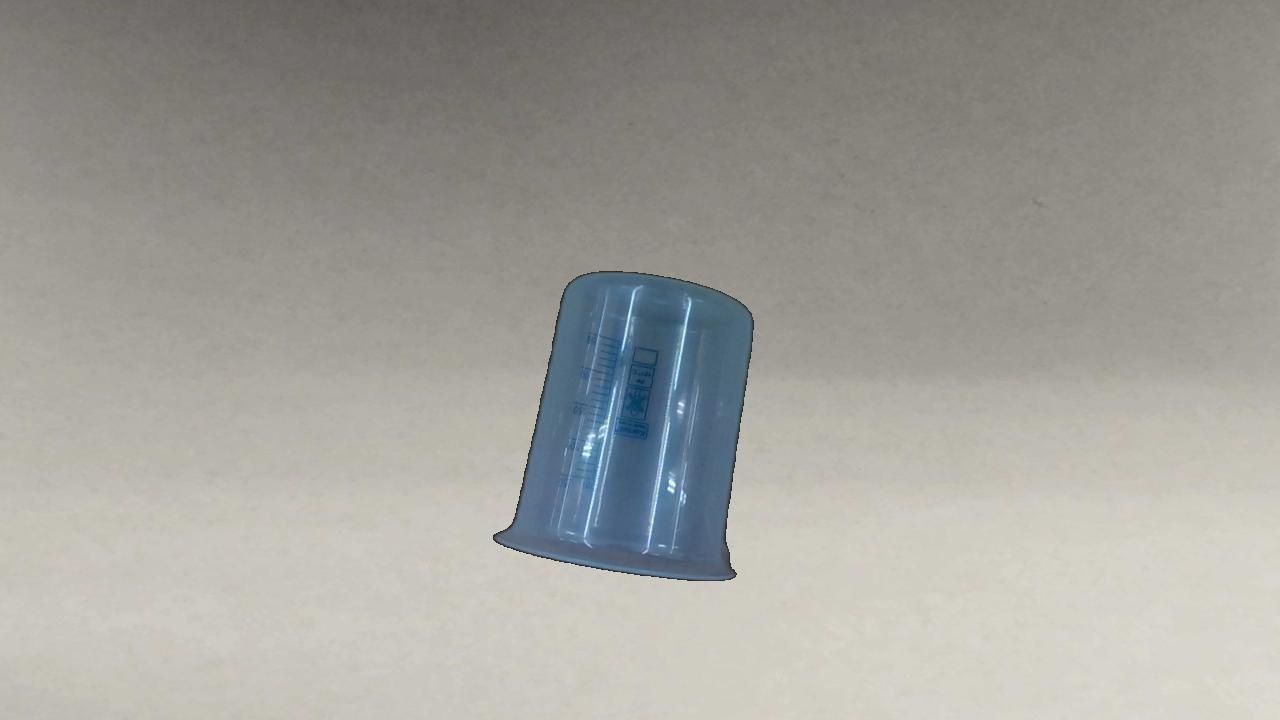becker: (492, 269, 754, 583)
